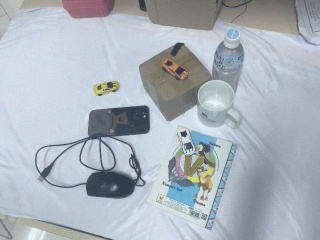book: (146, 123, 240, 235)
bottle: (211, 28, 244, 92)
box: (139, 42, 211, 122), (143, 1, 222, 34)
cup: (196, 79, 244, 129)
mouse: (86, 168, 136, 200)
phone: (87, 105, 151, 138)
toy_car: (160, 59, 191, 82), (175, 128, 199, 155), (94, 80, 120, 96)
